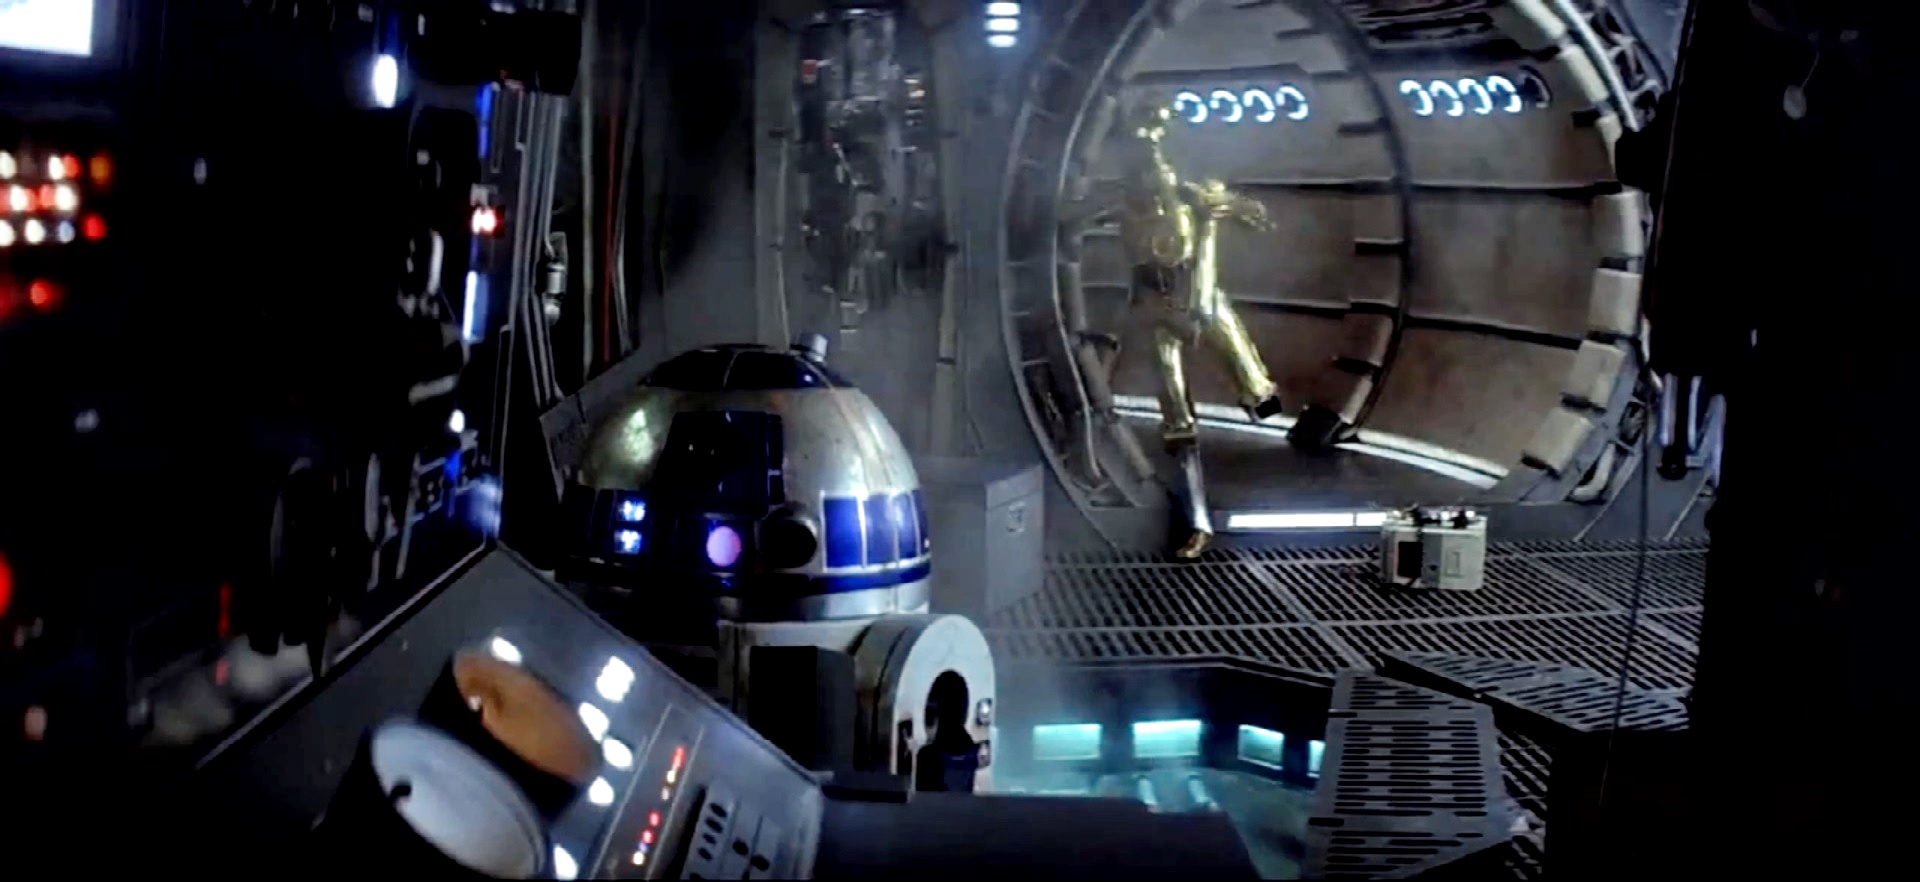r2d2: (553, 330, 998, 795)
